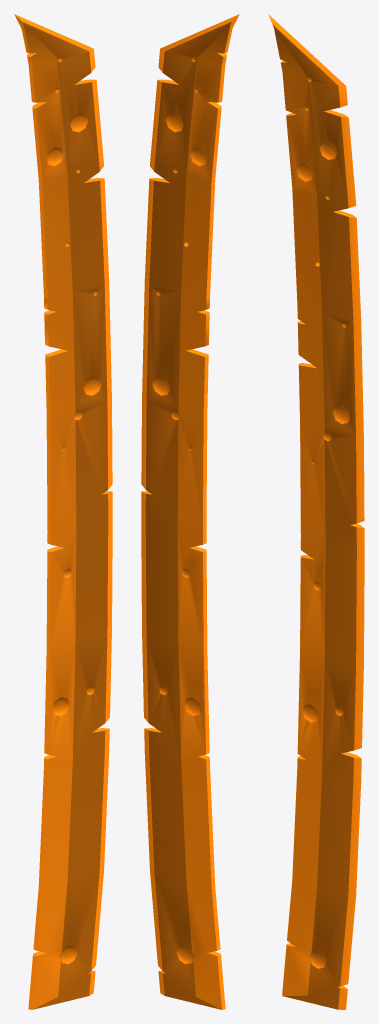
Rendered from bronze_blade_bubbles_038.glb.
3 views of the same model, side by side, from view 1: azimuth 30°, elevation 25°; view 2: azimuth 150°, elevation 25°; view 3: azimuth 330°, elevation 25° (orthographic). The views are drawn at different scales.
Visible parts, largest first — view 1: bronze_blade_bubbles.038; view 2: bronze_blade_bubbles.038; view 3: bronze_blade_bubbles.038.
Part boxes in pixels (box(x1,y1,x2,y2)): bronze_blade_bubbles.038: box(14, 14, 112, 1009); bronze_blade_bubbles.038: box(141, 14, 239, 1009); bronze_blade_bubbles.038: box(268, 14, 364, 1009).
Size of the model in its own units: 1.22 by 11.77 by 0.0749.
Materials: 1 (1 with a texture image).
